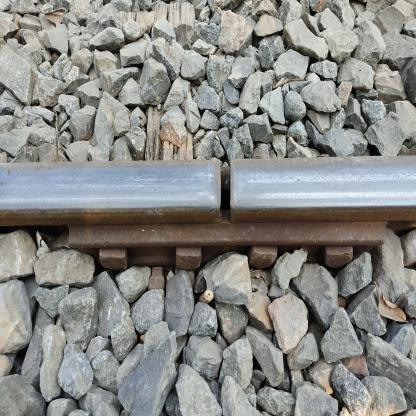Non Defective 3: (73, 208, 407, 292)
